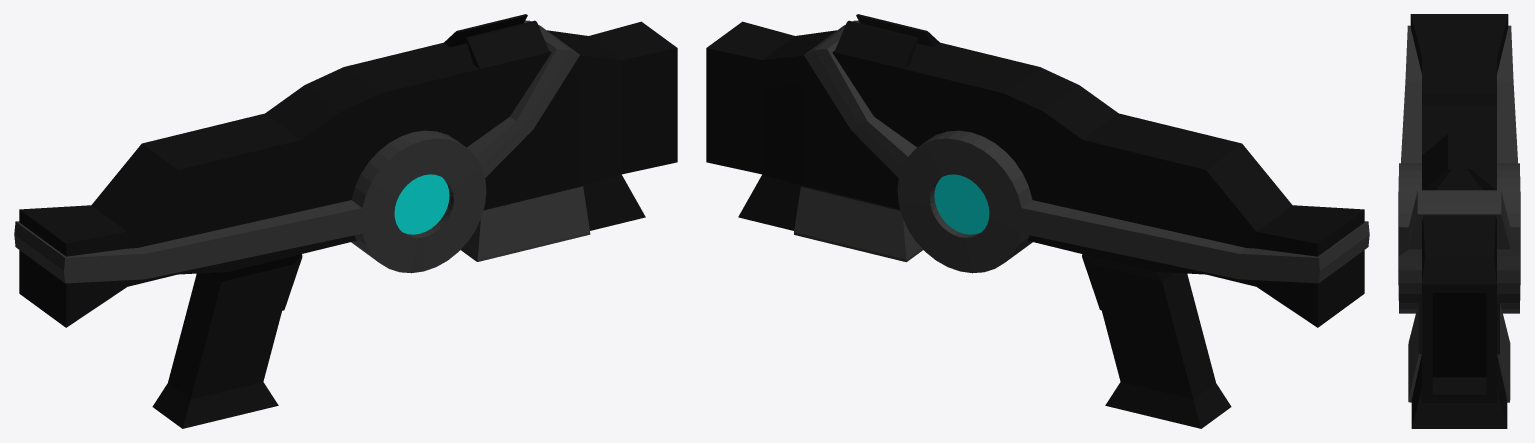
File: SMGIK.fbx
The picture shows the model from 3 angles, left to right: view 1: azimuth 30°, elevation 25°; view 2: azimuth 150°, elevation 25°; view 3: azimuth 270°, elevation 25°; orthographic projection. The views are drawn at different scales.
Visible parts, largest first — view 1: Cube.001; view 2: Cube.001; view 3: Cube.001.
Part boxes in pixels (bbox=[...]): Cube.001: bbox=[14, 14, 677, 428]; Cube.001: bbox=[706, 14, 1369, 428]; Cube.001: bbox=[1398, 14, 1520, 428].
Size of the model in its own units: 480 by 230 by 78.78.
